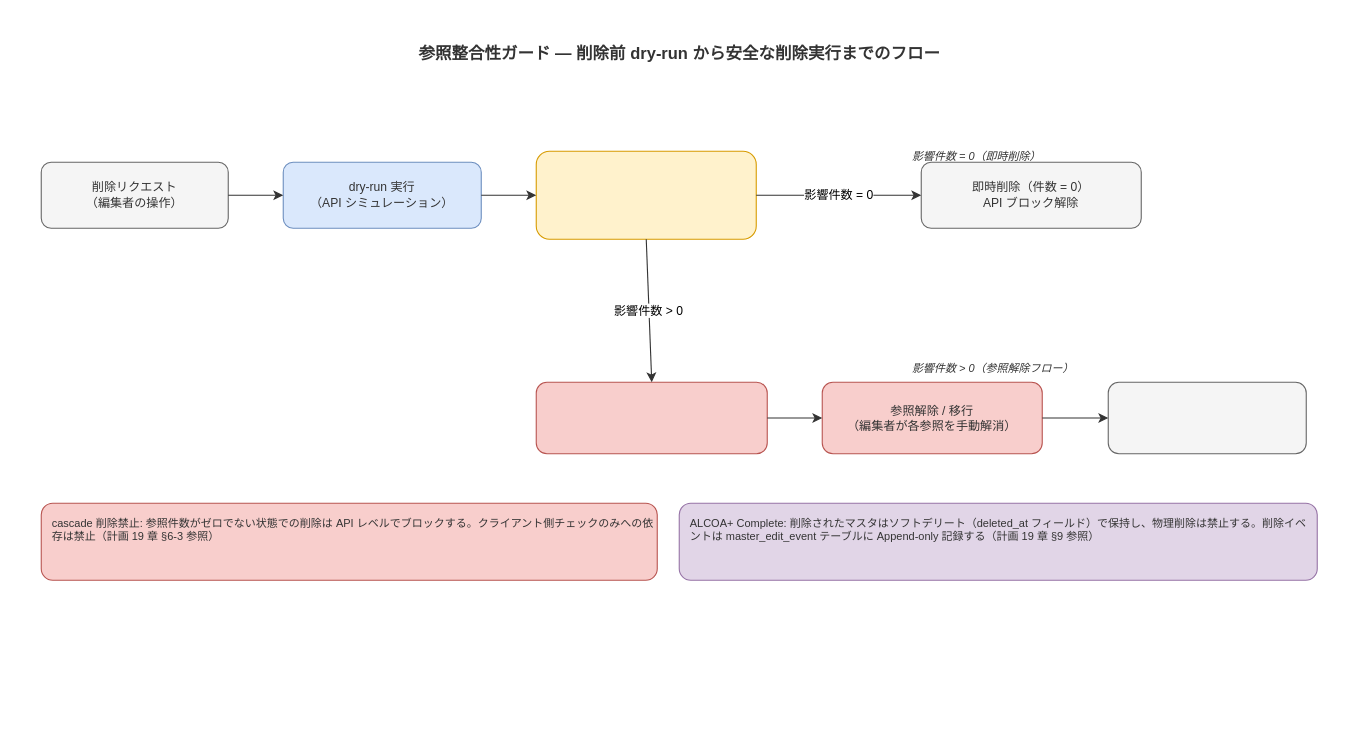
Image size: 1357x752. Some labels were removed from this diagram. The shapes that lost their labels are listed below. From the top down, each one's box as (x1, y1, x2, y2) in pixels, then its label:
(535, 150, 756, 239): 影響件数判定 参照レコード集計
(535, 381, 767, 454): 影響範囲ビュー表示 （SOP/作業パターン/Step/ルール の件数一覧）
(1107, 381, 1306, 454): 削除実行 （参照件数 = 0 確認後）
